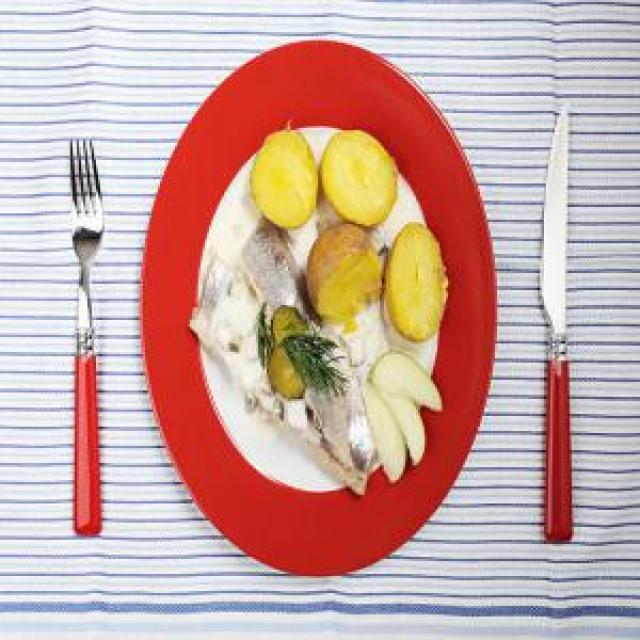knife: (538, 98, 577, 544)
